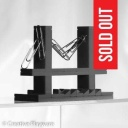Metal: (14, 37, 51, 77), (44, 33, 72, 67)
